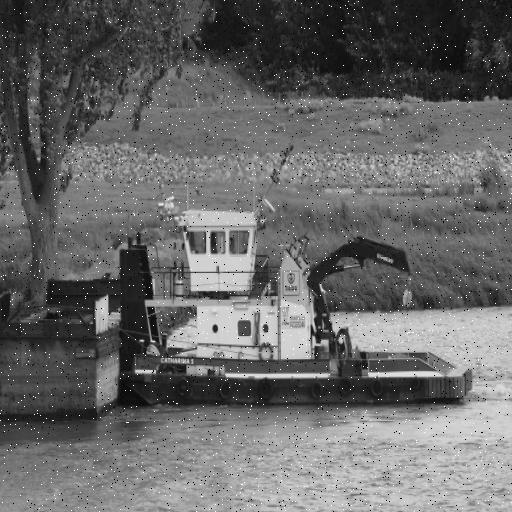tugboat: (115, 195, 476, 416)
